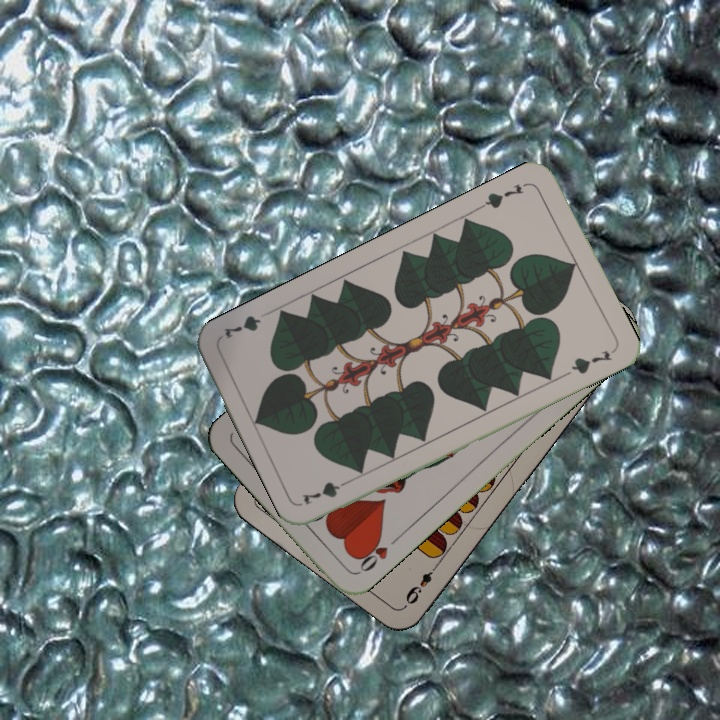E9: (401, 559, 442, 607)
G7: (298, 474, 356, 508), (476, 178, 532, 212)
HO: (352, 531, 403, 576)
